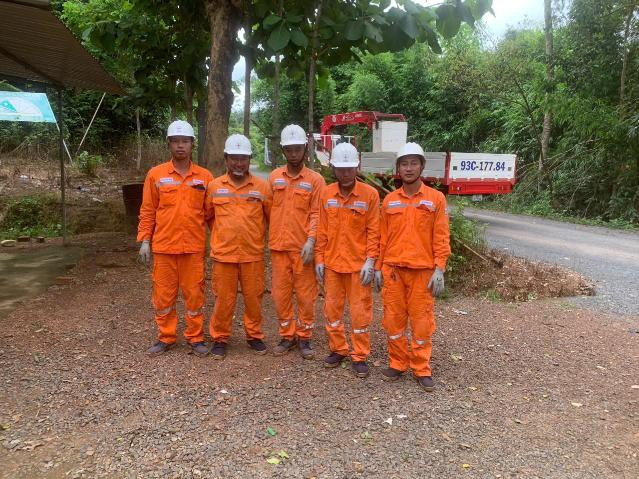gloves: (422, 259, 459, 302), (296, 229, 332, 269), (125, 236, 169, 268), (359, 253, 376, 287), (374, 260, 391, 293), (315, 256, 327, 286)
helmet: (380, 130, 438, 173), (321, 137, 371, 172), (269, 118, 312, 148), (154, 117, 201, 144), (220, 133, 254, 159)
shoes: (320, 325, 352, 374), (375, 339, 413, 380), (201, 325, 239, 359), (268, 317, 298, 360), (415, 348, 441, 393), (350, 336, 372, 384), (142, 339, 180, 360), (292, 334, 315, 365), (190, 330, 212, 362), (246, 331, 270, 357)
